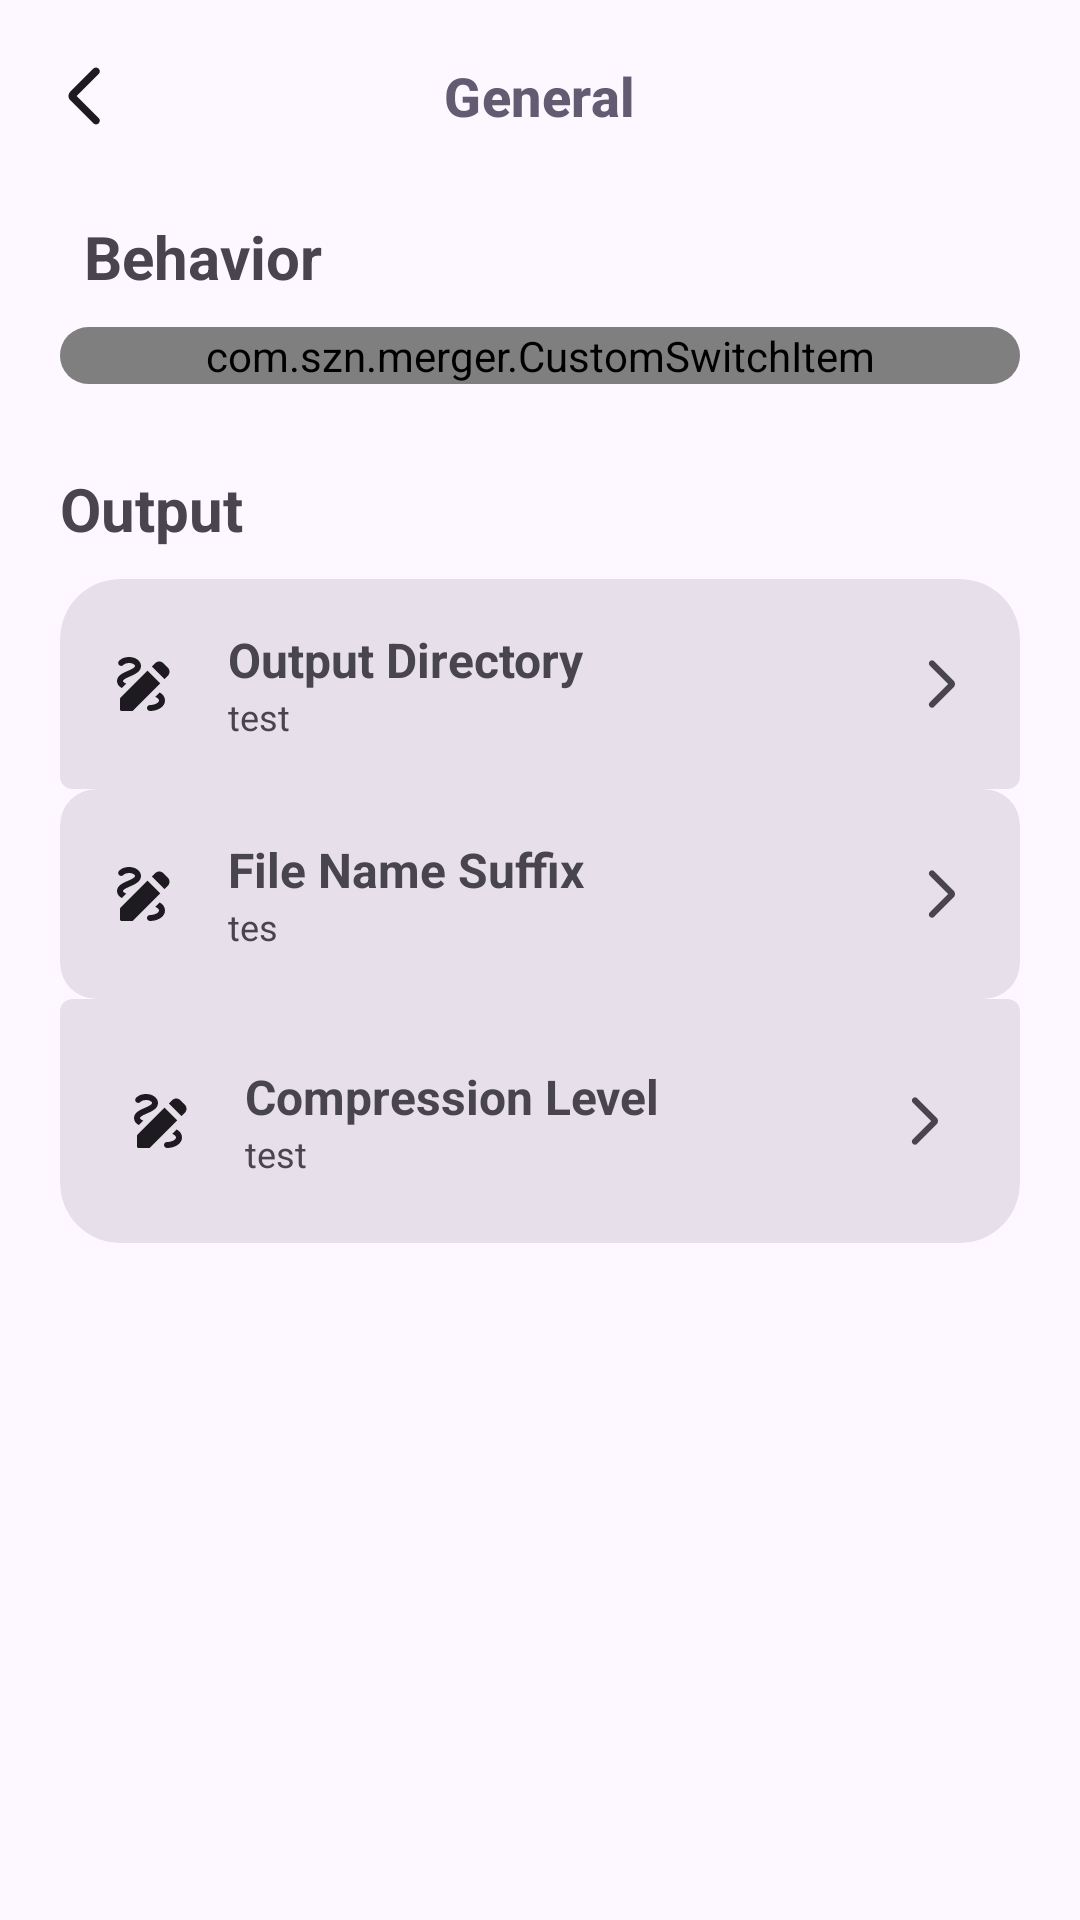

Icons on this 1080px x 1920px Android screen, each with the point to tap as [x,y]:
sign: [143,684], [143,894], [160,1121]
